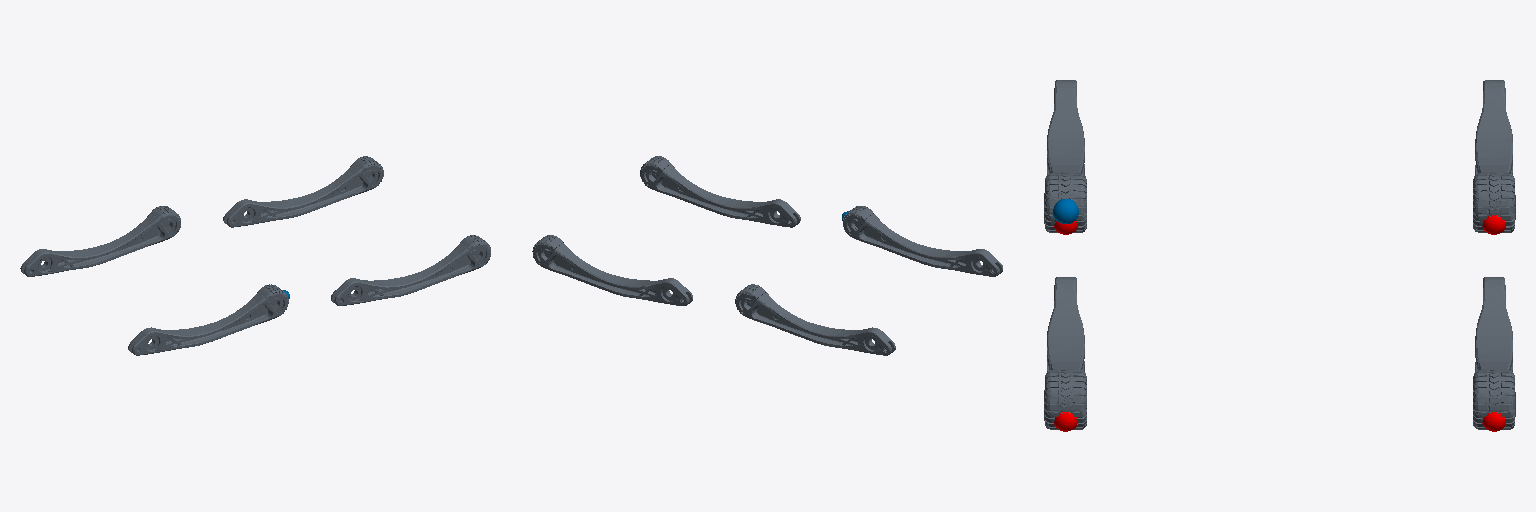
URDF robot description (MiniLiteV3):
<?xml version="1.0" encoding="utf-8"?> 
<robot name="MiniLiteV3"> 
  <link name="TORSO"> 
    <visual> 
      <origin rpy="0 0 0" xyz="0.0 0.0 0.0"/> 
      <geometry> 
      <mesh filename="../meshes/Lite3.dae" /> 
      </geometry> 
    </visual> 
    <collision> 
      <geometry> 
        <box size="0.35 0.184 0.08"/> 
      </geometry> 
    </collision> 
  </link> 
 
  <link name="INERTIA"> 
    <inertial> 
      <origin xyz="0.004098 -0.000663 -0.002069" /> 
      <mass value="4.130" /> 
      <inertia ixx="0.016982120" ixy="2.1294E-05" ixz="6.0763E-05" iyy="0.030466501" iyz="1.7968E-05" izz="0.042609956" /> 
    </inertial> 
  </link> 
 
  <joint name="Torso2Inertia" type="fixed"> 
    <parent link="TORSO" /> 
    <child link="INERTIA" /> 
  </joint> 

  <link name="FL_HIP"> 
    <inertial> 
      <origin xyz="-0.0047 -0.0091 -0.0018" /> 
      <mass value="0.428" /> 
      <inertia ixx="0.00014538" ixy="8.1579E-07" ixz="-1.264E-05" iyy="0.00024024" iyz="1.3443E-06" izz="0.00013038" /> 
    </inertial> 
    <visual> 
      <origin rpy="0 0 0" xyz="0.0 0.0 0.0"/> 
      <geometry> 
        <mesh filename="../meshes/FL_HIP.dae" /> 
      </geometry> 
    </visual> 
  </link> 
 
  <joint name="FL_HipX" type="revolute"> 
    <origin xyz="0.1745 0.062 0" /> 
    <parent link="TORSO" /> 
    <child link="FL_HIP" /> 
    <axis xyz="-1 0 0" /> 
    <limit lower="-0.42" upper="0.42" effort="24" velocity="26" /> 
  </joint> 
 
  <link name="FL_THIGH"> 
    <inertial> 
      <origin xyz="-0.00523 -0.0216 -0.0273" /> 
      <mass value="0.61" /> 
      <inertia ixx="0.001" ixy="-2.5E-06" ixz="-1.12E-04" iyy="0.00116" iyz="3.75E-07" izz="2.68E-04" /> 
    </inertial> 
    <visual> 
      <origin rpy="0 0 0" xyz="0.0 0.0 0.0"/> 
      <geometry> 
        <mesh filename="../meshes/L_THIGH.dae" /> 
      </geometry> 
    </visual> 
    <collision> 
      <origin xyz="0 0 -0.08"/> 
      <geometry> 
        <box size="0.02 0.02 0.16"/> 
      </geometry> 
    </collision> 
  </link> 
 
  <joint name="FL_HipY" type="revolute"> 
    <origin xyz="0 0.0985 0" /> 
    <parent link="FL_HIP" /> 
    <child link="FL_THIGH" /> 
    <axis xyz="0 -1 0" /> 
    <limit lower="-2.67" upper="0.314" effort="24" velocity="26" /> 
  </joint> 
 
  <link name="FL_SHANK"> 
    <inertial> 
      <origin xyz="0.00585 -8.732E-07 -0.12" /> 
      <mass value="0.115" /> 
      <inertia ixx="6.68E-04" ixy="-1.24E-08" ixz="6.91E-06" iyy="6.86E-04" iyz="5.65E-09" izz="3.155E-05" /> 
    </inertial> 
    <visual> 
      <geometry> 
        <mesh filename="../meshes/SHANK.dae" /> 
      </geometry> 
    </visual> 
    <collision> 
      <origin xyz="0 0 -0.09"/> 
      <geometry> 
        <box size="0.02 0.02 0.18"/> 
      </geometry> 
    </collision> 
  </link> 
 
  <joint name="FL_Knee" type="revolute"> 
    <origin xyz="0 0 -0.20" /> 
    <parent link="FL_THIGH" /> 
    <child link="FL_SHANK" /> 
    <axis xyz="0 -1 0" /> 
    <limit lower="0.6" upper="2.72" effort="36" velocity="17" /> 
  </joint> 
 
  <link name="FL_FOOT"> 
    <inertial> 
      <mass value="1E-12" /> 
      <inertia ixx="1E-12" ixy="0" ixz="0" iyy="1E-12" iyz="0" izz="1E-12" /> 
    </inertial> 
    <collision> 
      <geometry> 
        <sphere radius="0.01"/> 
      </geometry> 
    </collision> 
  </link> 
 
  <link name="FL_FOOT2"> 
    <inertial> 
      <mass value="1E-12" /> 
      <inertia ixx="1E-12" ixy="0" ixz="0" iyy="1E-12" iyz="0" izz="1E-12" /> 
    </inertial> 
    <visual>
      <material name="green"><color rgba="1 0 0 1"/></material>
      <geometry> 
          <sphere radius="0.01"/> 
      </geometry> 
    </visual>
    <collision> 
      <geometry> 
        <sphere radius="0.01"/> 
      </geometry> 
    </collision> 
  </link> 
 
  <joint name="FL_Ankle" type="fixed"> 
    <origin xyz="0 0 -0.23"/> 
    <parent link="FL_SHANK" /> 
    <child link="FL_FOOT" /> 
  </joint> 

  <joint name="FL_Ankle2" type="fixed"> 
    <origin xyz="-0.01 0 -0.225"/> 
    <parent link="FL_SHANK" /> 
    <child link="FL_FOOT2" /> 
  </joint> 
 
  <link name="FR_HIP"> 
    <inertial> 
      <origin xyz="-0.0047 0.0091 -0.0018" /> 
      <mass value="0.428" /> 
      <inertia ixx="0.00014538" ixy="-8.1551E-07" ixz="-1.2639E-05" iyy="0.00024024" iyz="-1.3441E-06" izz="0.00013038" /> 
    </inertial> 
    <visual> 
      <origin rpy="0 0 0" xyz="0.0 0.0 0.0"/> 
      <geometry> 
        <mesh filename="../meshes/FR_HIP.dae" /> 
      </geometry> 
    </visual> 
  </link> 
 
  <joint name="FR_HipX" type="revolute"> 
    <origin xyz="0.1745 -0.062 0" /> 
    <parent link="TORSO" /> 
    <child link="FR_HIP" /> 
    <axis xyz="-1 0 0" /> 
    <limit lower="-0.42" upper="0.42" effort="24" velocity="26" /> 
  </joint> 
 
  <link name="FR_THIGH"> 
    <inertial> 
      <origin xyz="-0.00523 0.0216 -0.0273" /> 
      <mass value="0.61" /> 
      <inertia ixx="0.001" ixy="2.5E-06" ixz="-1.12E-04" iyy="0.00116" iyz="-3.75E-07" izz="2.68E-04" /> 
    </inertial> 
    <visual> 
      <origin rpy="0 0 0" xyz="0.0 0.0 0.0"/> 
      <geometry> 
        <mesh filename="../meshes/R_THIGH.dae" /> 
      </geometry> 
    </visual> 
    <collision> 
      <origin xyz="0 0 -0.08"/> 
      <geometry> 
        <box size="0.02 0.02 0.16"/> 
      </geometry> 
    </collision> 
  </link> 
 
  <joint name="FR_HipY" type="revolute"> 
    <origin xyz="0 -0.0985 0" /> 
    <parent link="FR_HIP" /> 
    <child link="FR_THIGH" /> 
    <axis xyz="0 -1 0" /> 
    <limit lower="-2.67" upper="0.314" effort="24" velocity="26" /> 
  </joint> 
 
  <link name="FR_SHANK"> 
    <inertial> 
      <origin xyz="0.00585 -8.732E-07 -0.12" /> 
      <mass value="0.115" /> 
      <inertia ixx="6.68E-04" ixy="-1.24E-08" ixz="6.91E-06" iyy="6.86E-04" iyz="5.65E-09" izz="3.155E-05" /> 
    </inertial> 
    <visual> 
      <geometry> 
        <mesh filename="../meshes/SHANK.dae" /> 
      </geometry> 
    </visual> 
    <collision> 
      <origin xyz="0 0 -0.09"/> 
      <geometry> 
        <box size="0.02 0.02 0.18"/> 
      </geometry> 
    </collision> 
  </link> 
 
  <joint name="FR_Knee" type="revolute"> 
    <origin xyz="0 0 -0.20" /> 
    <parent link="FR_THIGH" /> 
    <child link="FR_SHANK" /> 
    <axis xyz="0 -1 0" /> 
    <limit lower="0.6" upper="2.72" effort="36" velocity="17" /> 
  </joint> 
 
  <link name="FR_FOOT"> 
    <inertial> 
      <mass value="1E-12" /> 
      <inertia ixx="1E-12" ixy="0" ixz="0" iyy="1E-12" iyz="0" izz="1E-12" /> 
    </inertial> 
    <collision> 
      <geometry> 
        <sphere radius="0.01"/> 
      </geometry> 
    </collision> 
  </link> 
 
  <link name="FR_FOOT2"> 
    <inertial> 
      <mass value="1E-12" /> 
      <inertia ixx="1E-12" ixy="0" ixz="0" iyy="1E-12" iyz="0" izz="1E-12" /> 
    </inertial> 
    <visual>
      <material name="green"><color rgba="1 0 0 1"/></material>
      <geometry> 
          <sphere radius="0.01"/> 
      </geometry> 
    </visual>
    <collision> 
      <geometry> 
        <sphere radius="0.01"/> 
      </geometry> 
    </collision> 
  </link> 
 
  <joint name="FR_Ankle" type="fixed"> 
    <origin xyz="0 0 -0.23"/> 
    <parent link="FR_SHANK" /> 
    <child link="FR_FOOT" /> 
  </joint> 

  <joint name="FR_Ankle2" type="fixed"> 
    <origin xyz="-0.01 0 -0.225"/> 
    <parent link="FR_SHANK" /> 
    <child link="FR_FOOT2" /> 
  </joint>
 
  <link name="HL_HIP"> 
    <inertial> 
      <origin xyz="0.0047 -0.0091 -0.0018" /> 
      <mass value="0.428" /> 
      <inertia ixx="0.00014538" ixy="-8.1585E-07" ixz="1.2639E-05" iyy="0.00024024" iyz="1.3444E-06" izz="0.00013038" /> 
    </inertial> 
    <visual> 
      <origin rpy="0 0 0" xyz="0.0 0.0 0.0"/> 
      <geometry> 
        <mesh filename="../meshes/HL_HIP.dae" /> 
      </geometry> 
    </visual> 
  </link> 
 
  <joint name="HL_HipX" type="revolute"> 
    <origin xyz="-0.1745 0.062 0" /> 
    <parent link="TORSO" /> 
    <child link="HL_HIP" /> 
    <axis xyz="-1 0 0" /> 
    <limit lower="-0.42" upper="0.42" effort="24" velocity="26" /> 
  </joint> 
 
  <link name="HL_THIGH"> 
    <inertial> 
      <origin xyz="-0.00523 -0.0216 -0.0273" /> 
      <mass value="0.61" /> 
      <inertia ixx="0.001" ixy="-2.5E-06" ixz="-1.12E-04" iyy="0.00116" iyz="3.75E-07" izz="2.68E-04" /> 
    </inertial> 
    <visual> 
      <origin rpy="0 0 0" xyz="0.0 0.0 0.0"/> 
      <geometry> 
        <mesh filename="../meshes/L_THIGH.dae" /> 
      </geometry> 
    </visual> 
    <collision> 
      <origin xyz="0 0 -0.08"/> 
      <geometry> 
        <box size="0.02 0.02 0.16"/> 
      </geometry> 
    </collision> 
  </link> 
 
  <joint name="HL_HipY" type="revolute"> 
    <origin xyz="0 0.0985 0" /> 
    <parent link="HL_HIP" /> 
    <child link="HL_THIGH" /> 
    <axis xyz="0 -1 0" /> 
    <limit lower="-2.67" upper="0.314" effort="24" velocity="26" /> 
  </joint> 
 
  <link name="HL_SHANK"> 
    <inertial> 
      <origin xyz="0.00585 -8.732E-07 -0.12" /> 
      <mass value="0.115" /> 
      <inertia ixx="6.68E-04" ixy="-1.24E-08" ixz="6.91E-06" iyy="6.86E-04" iyz="5.65E-09" izz="3.155E-05" /> 
    </inertial> 
    <visual> 
      <geometry> 
        <mesh filename="../meshes/SHANK.dae" /> 
      </geometry> 
    </visual> 
    <collision> 
      <origin xyz="0 0 -0.09"/> 
      <geometry> 
        <box size="0.02 0.02 0.18"/> 
      </geometry> 
    </collision> 
  </link> 
 
  <joint name="HL_Knee" type="revolute"> 
    <origin xyz="0 0 -0.20" /> 
    <parent link="HL_THIGH" /> 
    <child link="HL_SHANK" /> 
    <axis xyz="0 -1 0" /> 
    <limit lower="0.6" upper="2.72" effort="36" velocity="17" /> 
  </joint> 
 
  <link name="HL_FOOT"> 
    <inertial> 
      <mass value="1E-12" /> 
      <inertia ixx="1E-12" ixy="0" ixz="0" iyy="1E-12" iyz="0" izz="1E-12" /> 
    </inertial> 
    <collision> 
      <geometry> 
        <sphere radius="0.01"/> 
      </geometry> 
    </collision> 
  </link> 

  <link name="HL_FOOT2"> 
    <inertial> 
      <mass value="1E-12" /> 
      <inertia ixx="1E-12" ixy="0" ixz="0" iyy="1E-12" iyz="0" izz="1E-12" /> 
    </inertial> 
    <visual>
      <material name="green"><color rgba="1 0 0 1"/></material>
      <geometry> 
          <sphere radius="0.01"/> 
      </geometry> 
    </visual>
    <collision> 
      <geometry> 
        <sphere radius="0.01"/> 
      </geometry> 
    </collision> 
  </link> 
 
  <joint name="HL_Ankle" type="fixed"> 
    <origin xyz="0 0 -0.23"/> 
    <parent link="HL_SHANK" /> 
    <child link="HL_FOOT" /> 
  </joint> 

  <joint name="HL_Ankle2" type="fixed"> 
    <origin xyz="-0.01 0 -0.225"/> 
    <parent link="HL_SHANK" /> 
    <child link="HL_FOOT2" /> 
  </joint>
 
  <link name="HR_HIP"> 
    <inertial> 
      <origin xyz="0.0047 0.0091 -0.0018" /> 
      <mass value="0.428" /> 
      <inertia ixx="0.00014538" ixy="8.1545E-07" ixz="1.2639E-05" iyy="0.00024024" iyz="-1.344E-06" izz="0.00013038" /> 
    </inertial> 
    <visual> 
      <origin rpy="0 0 0" xyz="0.0 0.0 0.0"/> 
      <geometry> 
        <mesh filename="../meshes/HR_HIP.dae" /> 
      </geometry> 
    </visual> 
  </link> 
 
  <joint name="HR_HipX" type="revolute"> 
    <origin xyz="-0.1745 -0.062 0" /> 
    <parent link="TORSO" /> 
    <child link="HR_HIP" /> 
    <axis xyz="-1 0 0" /> 
    <limit lower="-0.42" upper="0.42" effort="24" velocity="26" /> 
  </joint> 
 
  <link name="HR_THIGH"> 
    <inertial> 
      <origin xyz="-0.00523 0.0216 -0.0273" /> 
      <mass value="0.61" /> 
      <inertia ixx="0.001" ixy="2.5E-06" ixz="-1.12E-04" iyy="0.00116" iyz="-3.75E-07" izz="2.68E-04" /> 
    </inertial> 
    <visual> 
      <origin rpy="0 0 0" xyz="0.0 0.0 0.0"/> 
      <geometry> 
        <mesh filename="../meshes/R_THIGH.dae" /> 
      </geometry> 
    </visual> 
    <collision> 
      <origin xyz="0 0 -0.08"/> 
      <geometry> 
        <box size="0.02 0.02 0.16"/> 
      </geometry> 
    </collision> 
  </link> 
 
  <joint name="HR_HipY" type="revolute"> 
    <origin xyz="0 -0.0985 0" /> 
    <parent link="HR_HIP" /> 
    <child link="HR_THIGH" /> 
    <axis xyz="0 -1 0" /> 
    <limit lower="-2.67" upper="0.314" effort="24" velocity="26" /> 
  </joint> 
 
  <link name="HR_SHANK"> 
    <inertial> 
      <origin xyz="0.00585 -8.732E-07 -0.12" /> 
      <mass value="0.115" /> 
      <inertia ixx="6.68E-04" ixy="-1.24E-08" ixz="6.91E-06" iyy="6.86E-04" iyz="5.65E-09" izz="3.155E-05" /> 
    </inertial> 
    <visual> 
      <geometry> 
        <mesh filename="../meshes/SHANK.dae" />
      </geometry> 
    </visual> 
    <collision> 
      <origin xyz="0 0 -0.09"/> 
      <geometry> 
        <box size="0.02 0.02 0.18"/> 
      </geometry> 
    </collision> 
  </link> 
 
  <joint name="HR_Knee" type="revolute"> 
    <origin xyz="0 0 -0.20" /> 
    <parent link="HR_THIGH" /> 
    <child link="HR_SHANK" /> 
    <axis xyz="0 -1 0" /> 
    <limit lower="0.6" upper="2.72" effort="36" velocity="17" /> 
  </joint> 
 
  <link name="HR_FOOT"> 
    <inertial> 
      <mass value="1E-12" /> 
      <inertia ixx="1E-12" ixy="0" ixz="0" iyy="1E-12" iyz="0" izz="1E-12" /> 
    </inertial> 
    <visual>
      <geometry> 
          <sphere radius="0.01"/> 
      </geometry> 
    </visual>
    <collision> 
      <geometry> 
        <sphere radius="0.01"/> 
      </geometry> 
    </collision> 
  </link> 

  <link name="HR_FOOT2"> 
    <inertial> 
      <mass value="1E-12" /> 
      <inertia ixx="1E-12" ixy="0" ixz="0" iyy="1E-12" iyz="0" izz="1E-12" /> 
    </inertial> 
    <visual>
      <material name="green"><color rgba="1 0 0 1"/></material>
      <geometry> 
          <sphere radius="0.01"/> 
      </geometry> 
    </visual>
    <collision> 
      <geometry> 
        <sphere radius="0.01"/> 
      </geometry> 
    </collision> 
  </link> 
 
  <joint name="HR_Ankle" type="fixed"> 
    <origin xyz="0 0 -0.23"/> 
    <parent link="HR_SHANK" /> 
    <child link="HR_FOOT" /> 
  </joint> 

  <joint name="HR_Ankle2" type="fixed"> 
    <origin xyz="-0.01 0 -0.225"/> 
    <parent link="HR_SHANK" /> 
    <child link="HR_FOOT2" /> 
  </joint> 
 
</robot> 

--- What the picture shows (computed from the rendered views, not written in the file) ---
3 views of the same robot in one strip: view 1: azimuth 30°, elevation 25°; view 2: azimuth 150°, elevation 25°; view 3: azimuth 270°, elevation 25° (orthographic).
Model MiniLiteV3 with 22 links and 21 joints (12 revolute, 9 fixed), rooted at TORSO, posed all joints at 0 but 4 set to mid-range because 0 is outside their limits (FL_Knee = 1.66, FR_Knee = 1.66, HL_Knee = 1.66, HR_Knee = 1.66).
Visible links, largest first — view 1: FL_SHANK, HL_SHANK, HR_SHANK, FR_SHANK; view 2: FR_SHANK, HR_SHANK, FL_SHANK, HL_SHANK; view 3: FR_SHANK, FL_SHANK, HL_SHANK, HR_SHANK, HR_FOOT.
Link boxes in pixels (x1,y1,x2,y2): FL_SHANK: (223,156,383,227); HL_SHANK: (20,206,180,276); HR_SHANK: (128,284,288,355); FR_SHANK: (331,235,490,305); FR_SHANK: (640,156,800,227); HR_SHANK: (843,206,1002,276); FL_SHANK: (532,235,692,305); HL_SHANK: (735,284,895,355); FR_SHANK: (1044,277,1086,429); FL_SHANK: (1473,277,1515,429); HL_SHANK: (1473,80,1515,232); HR_SHANK: (1044,80,1086,232); HR_FOOT: (1053,199,1078,223).
Bounding box of the posed robot: 0.6184 × 0.353 × 0.06 m (x, y, z).
4 mesh visuals loaded from 8 distinct referenced files (1 Collada DAE); not drawn: 9 (reference not matched to a file when rendering).